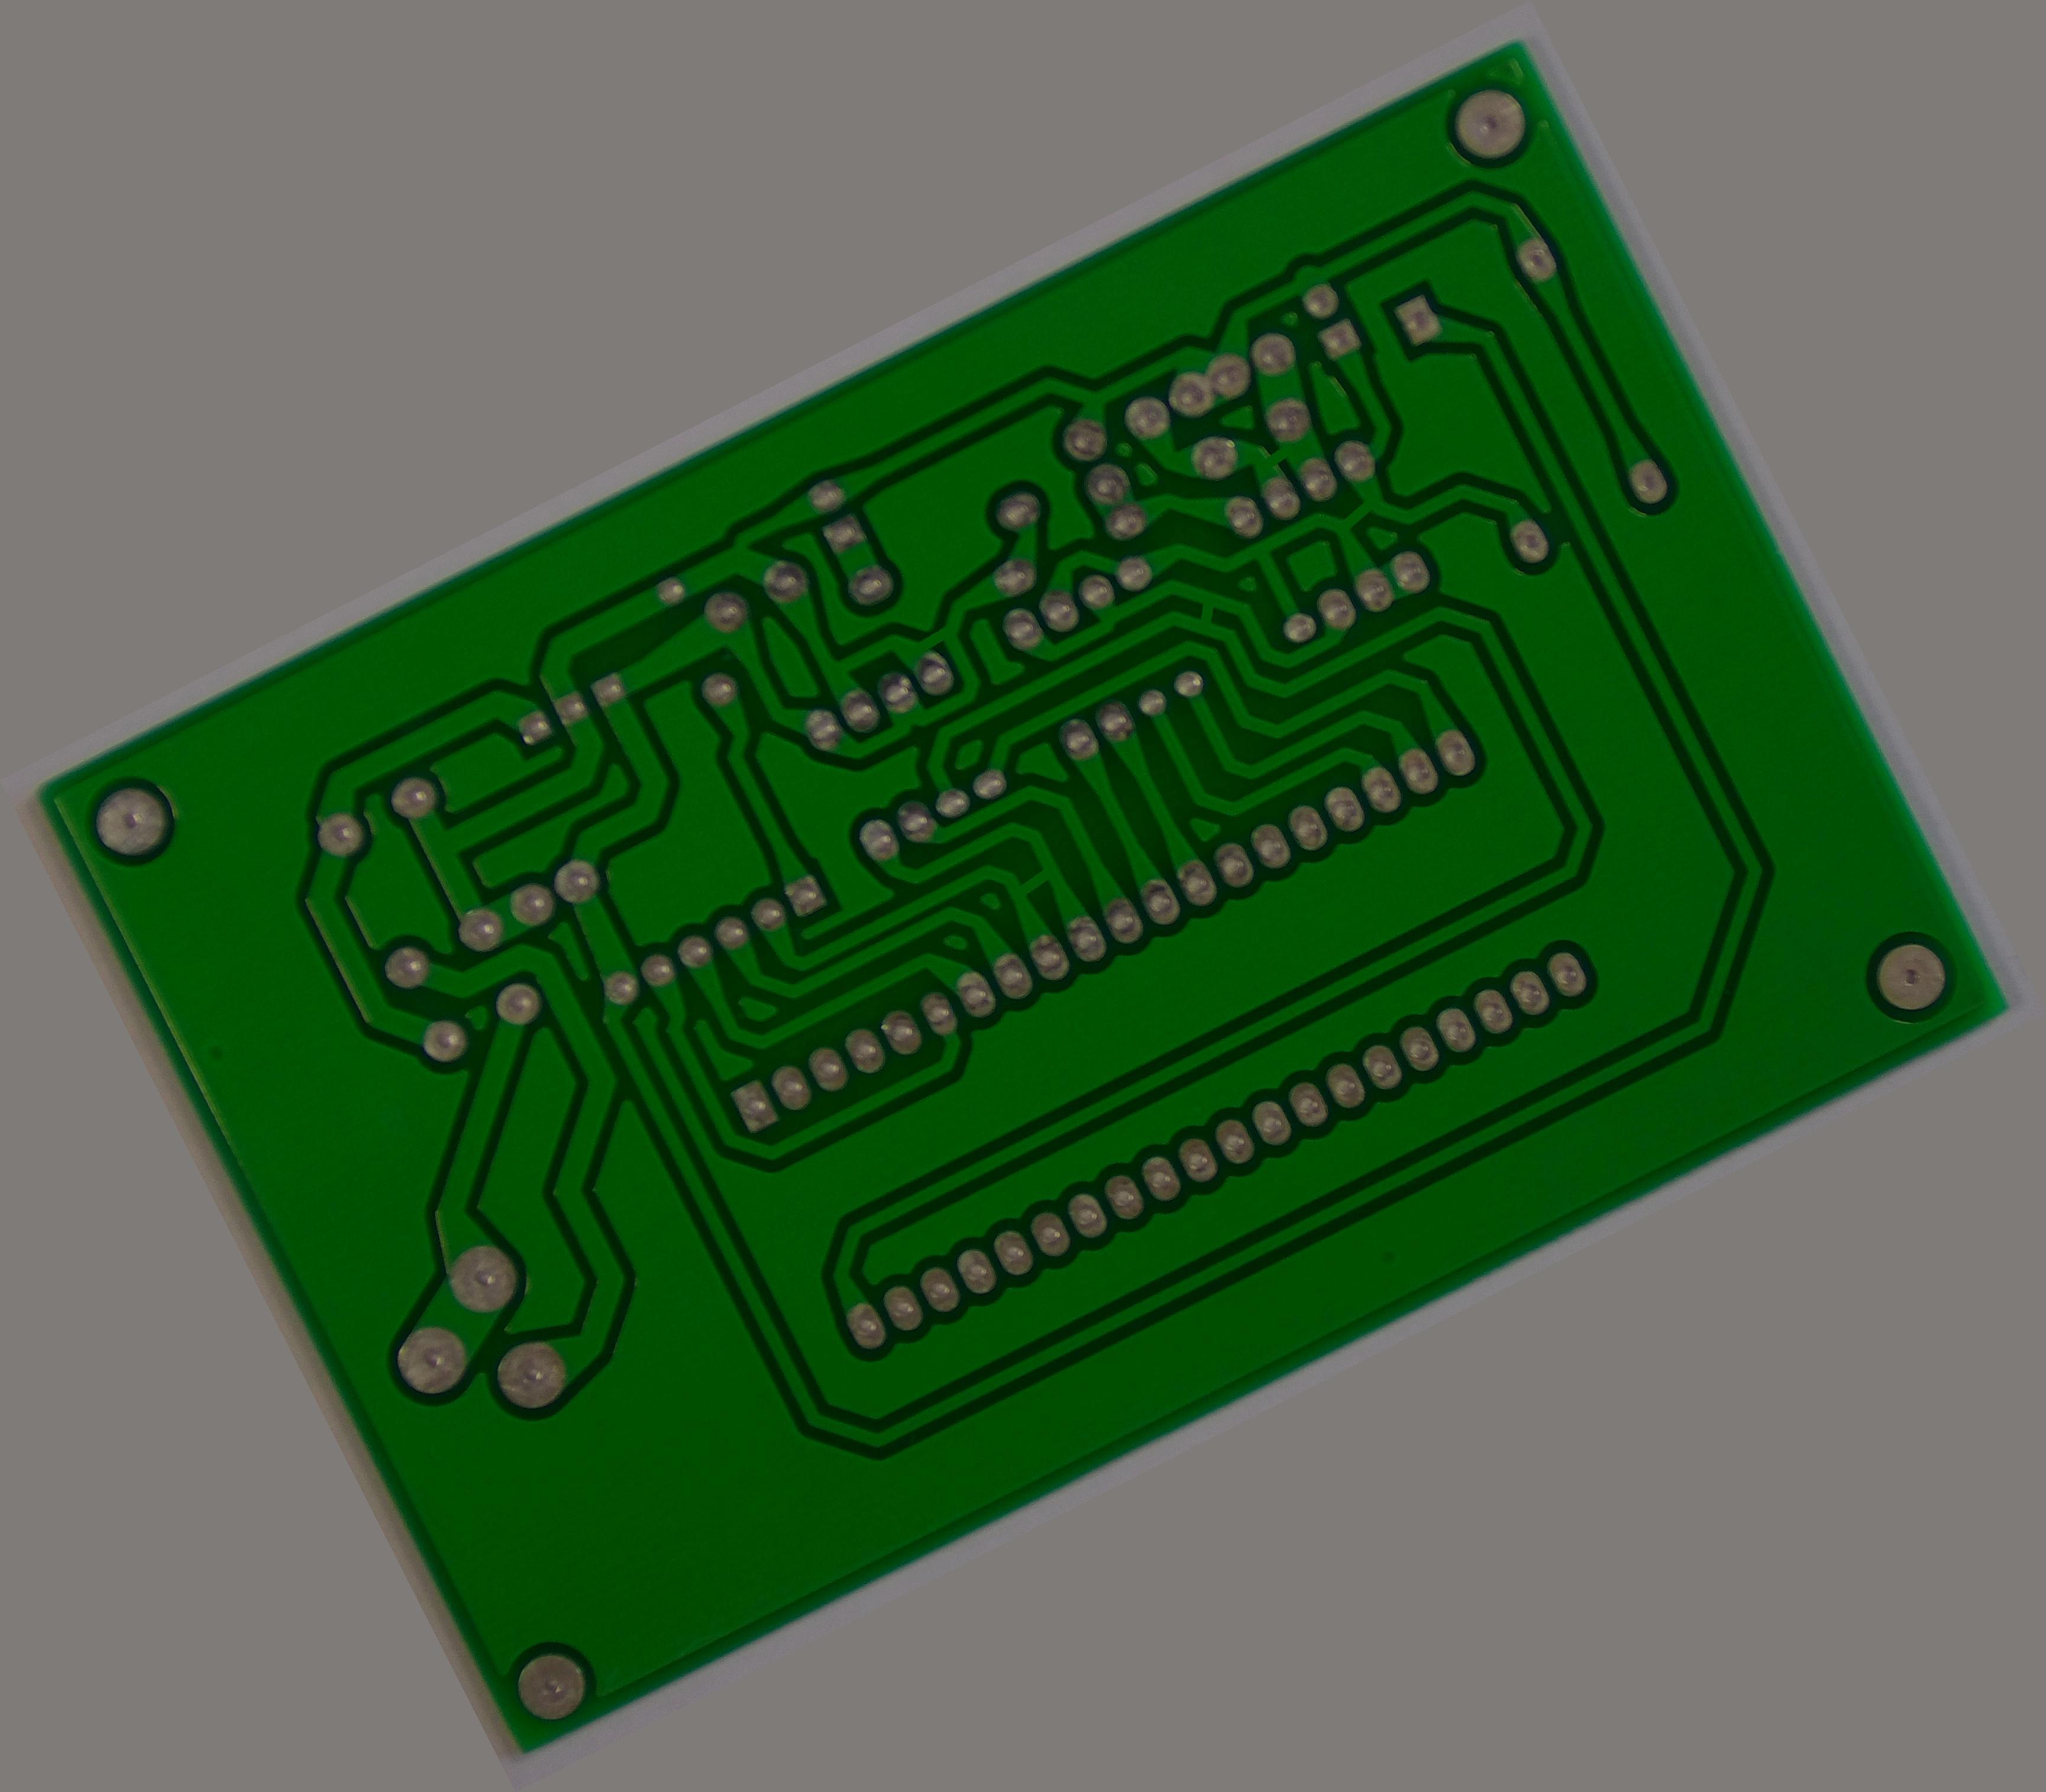short: (889, 598, 981, 677), (1314, 480, 1404, 557), (990, 846, 1077, 924), (1234, 421, 1312, 494), (1169, 578, 1242, 649)
